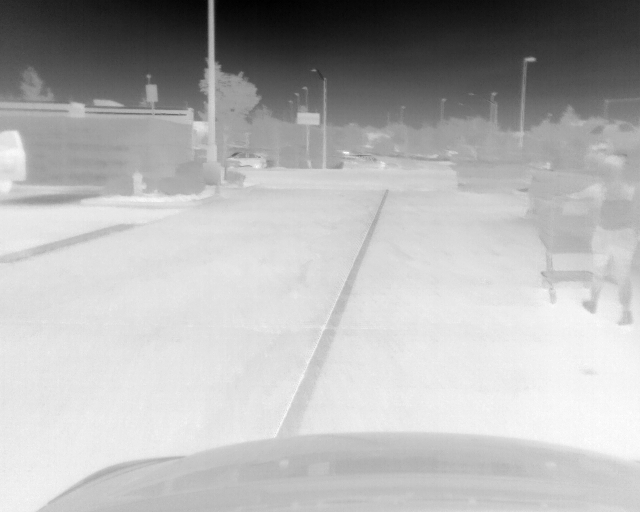car: (335, 153, 385, 170), (227, 151, 268, 171)
people: (566, 153, 635, 327)
